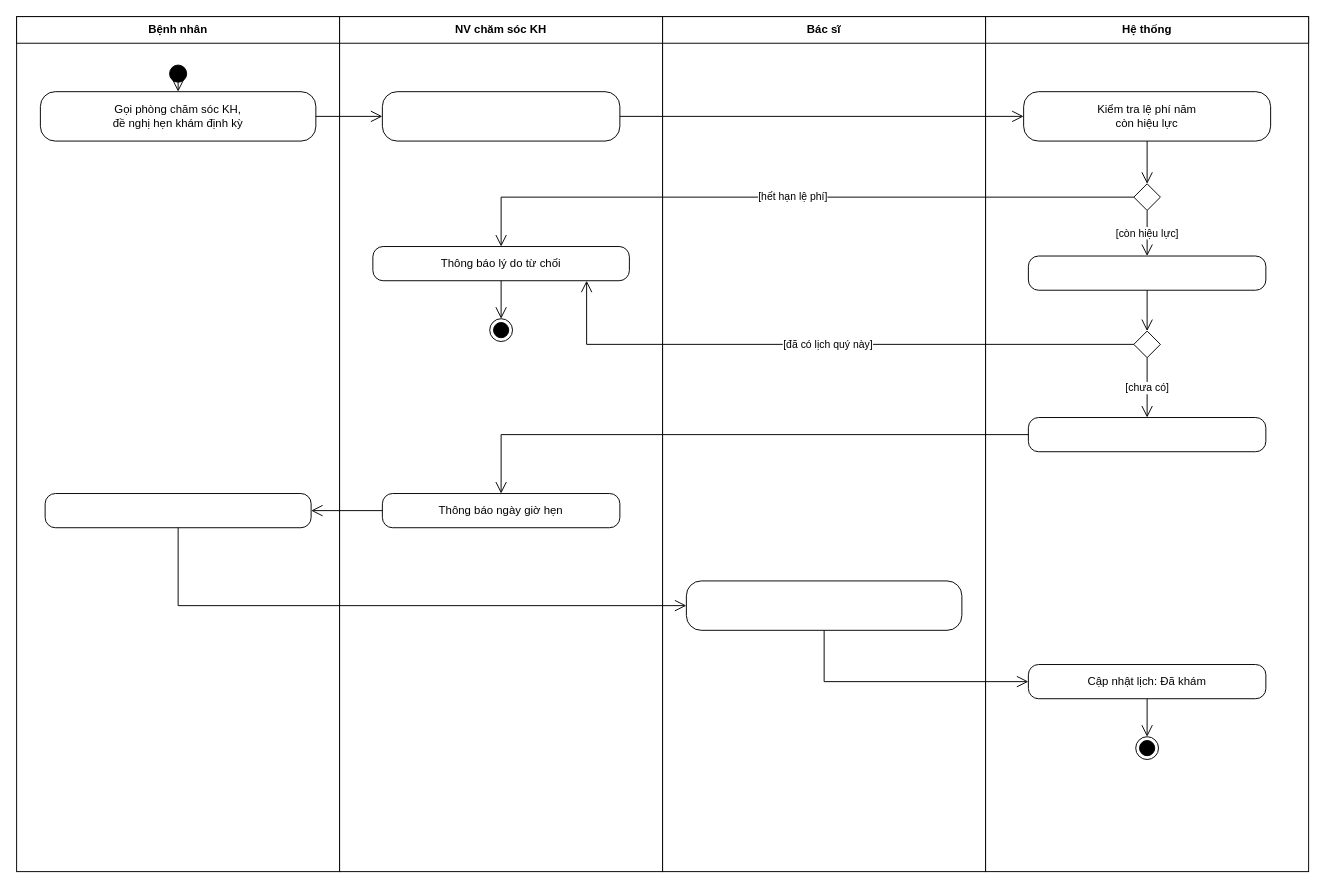
Some shapes in this 1325 by 888 pixel diagram are drawn without their labels. The centre of each missing label's shape, as x and y in pixels:
"Kiểm tra quý chưa có lịch" belongs at (1146,272).
"Lưu lịch hẹn (Đã hẹn)" belongs at (1146,434).
"Lập phiếu khám loại định kỳ (miễn phí), ghi kết luận" belongs at (823,605).
"Tìm hồ sơ, nhập ngày giờ hẹn" belongs at (500,116).
"Đến khám đúng ngày giờ" belongs at (177,510).
